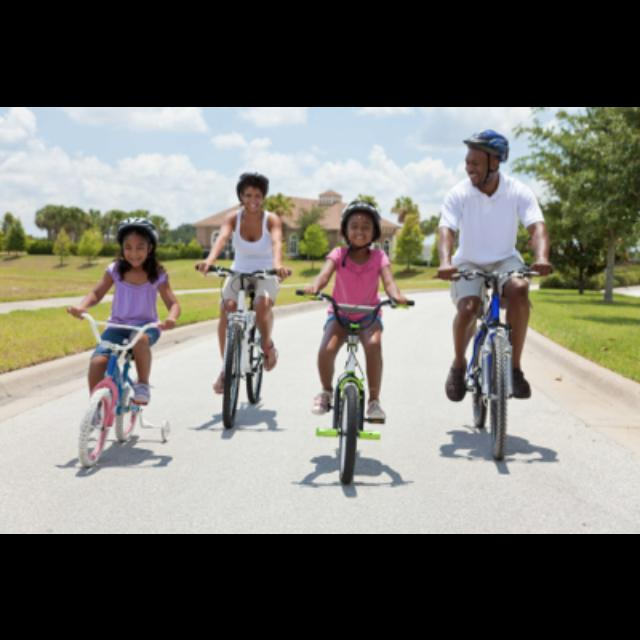With Helmet: (109, 210, 170, 272), (232, 158, 284, 226), (461, 124, 512, 186), (339, 197, 385, 251)
